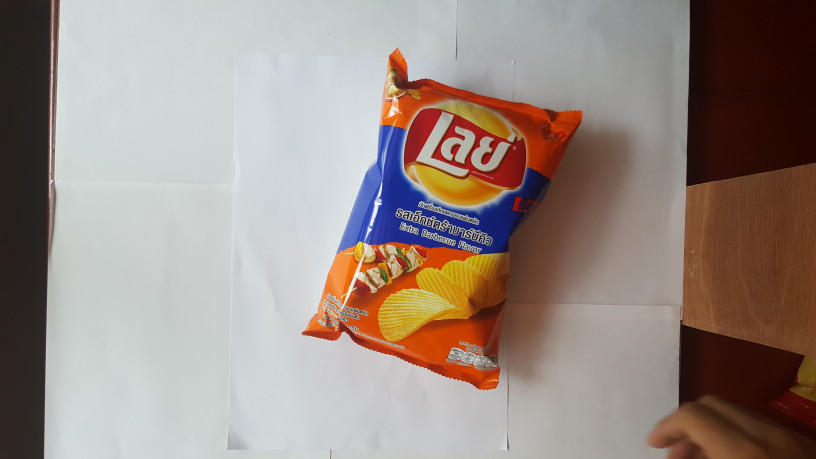lays-bbq: (291, 41, 591, 393)
